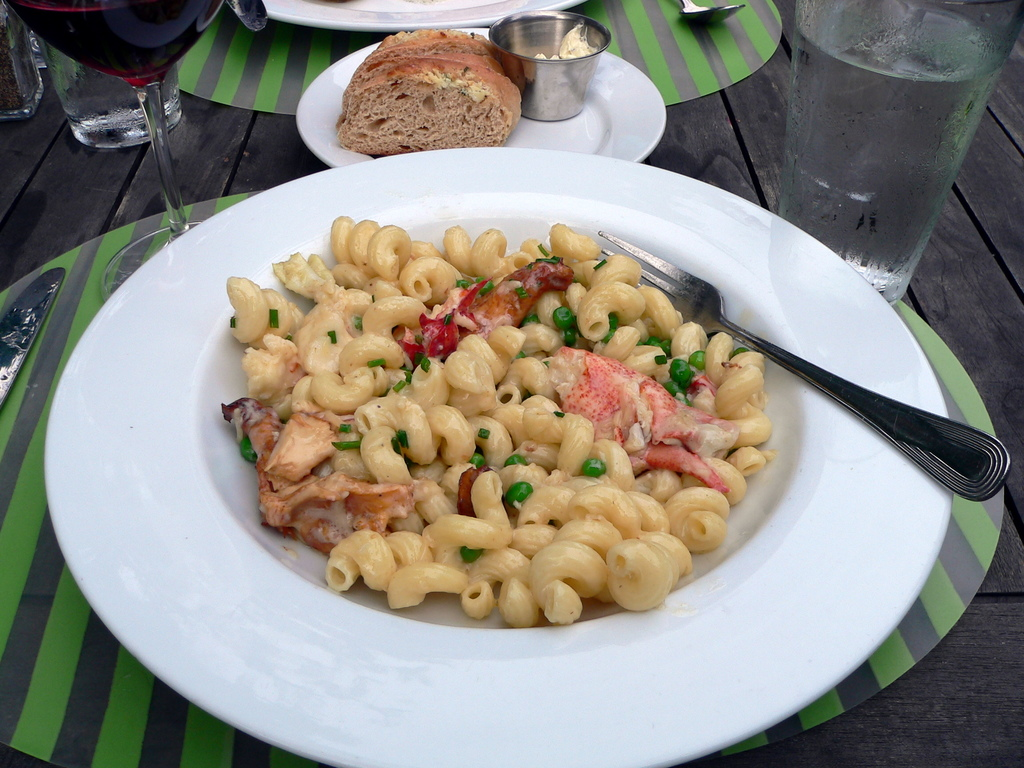pasta: (216, 212, 767, 626)
